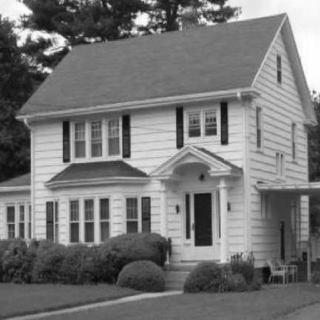other: (185, 176, 221, 256), (2, 236, 40, 286)
